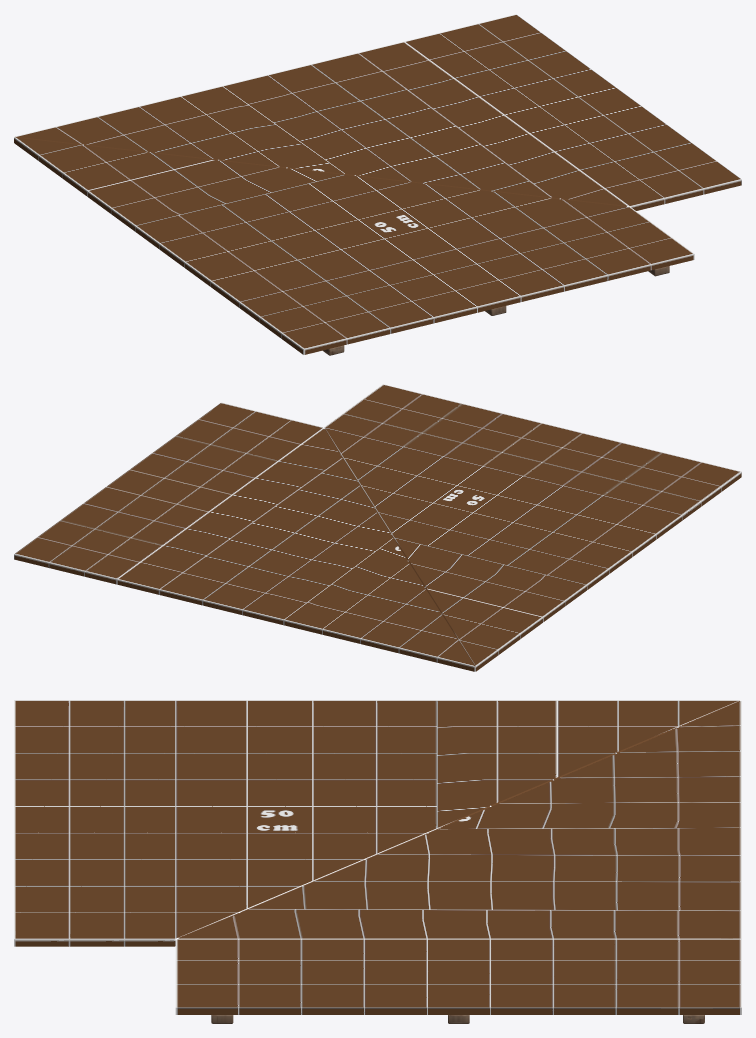
File: Hangar01F_2.FBX
The picture shows the model from 3 angles, top to bottom: view 1: azimuth 30°, elevation 25°; view 2: azimuth 150°, elevation 25°; view 3: azimuth 270°, elevation 25°; orthographic projection. The views are drawn at different scales.
Visible parts, largest first — view 1: Hangar01F_2; view 2: Hangar01F_2; view 3: Hangar01F_2.
Boxes of the visible parts, x1=… form: Hangar01F_2: x1=14, y1=14, x2=741, y2=355; Hangar01F_2: x1=14, y1=384, x2=741, y2=671; Hangar01F_2: x1=14, y1=700, x2=741, y2=1023.
Size of what is drawn, in the model's own units: 4.5 by 0.1126 by 4.5.
